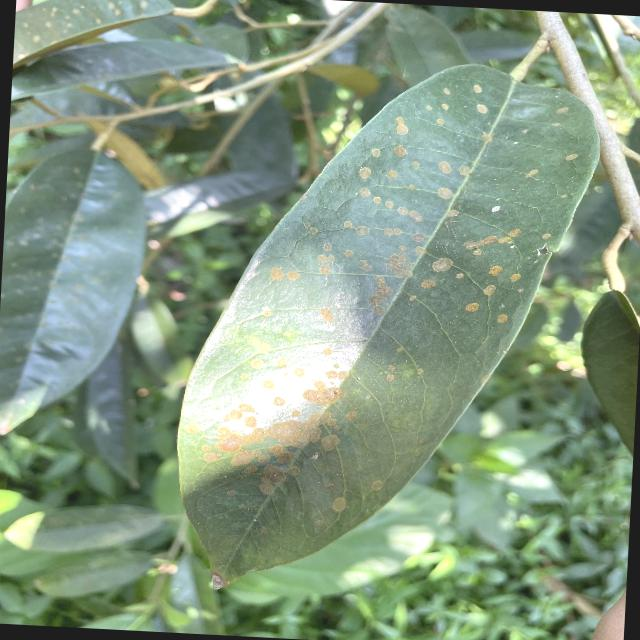Algal Leaf Spot: (158, 43, 604, 618)
